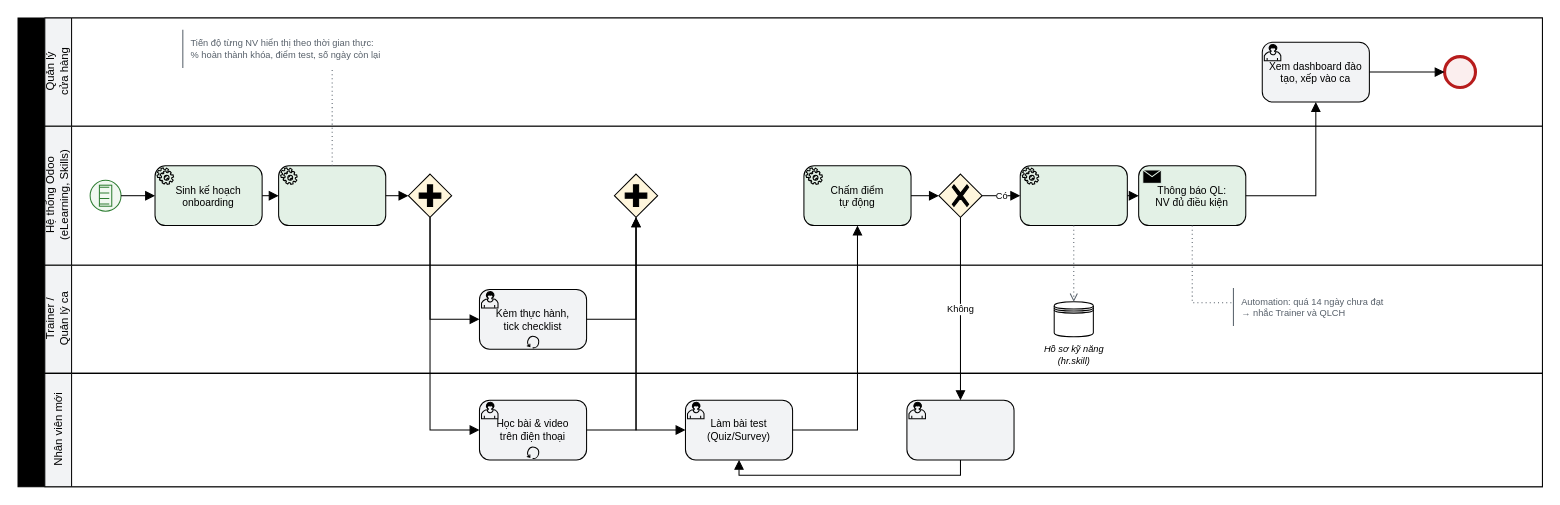
Some shapes in this 1560 by 505 pixel diagram are drawn without their labels. The shapes that lost their labels are listed below. From the top down, each one's centre as x and y in pixels, then its label:
point 1459,72: NV làm chính thức
point 105,195: Hồ sơ NV được tạo (P1)
point 332,195: Ghi danh khóa eLearning theo quầy
point 960,195: Điểm ≥ 80%?
point 1073,195: Cập nhật Skill "Đạt quầy X"
point 960,429: Ôn lại phần chưa đạt
